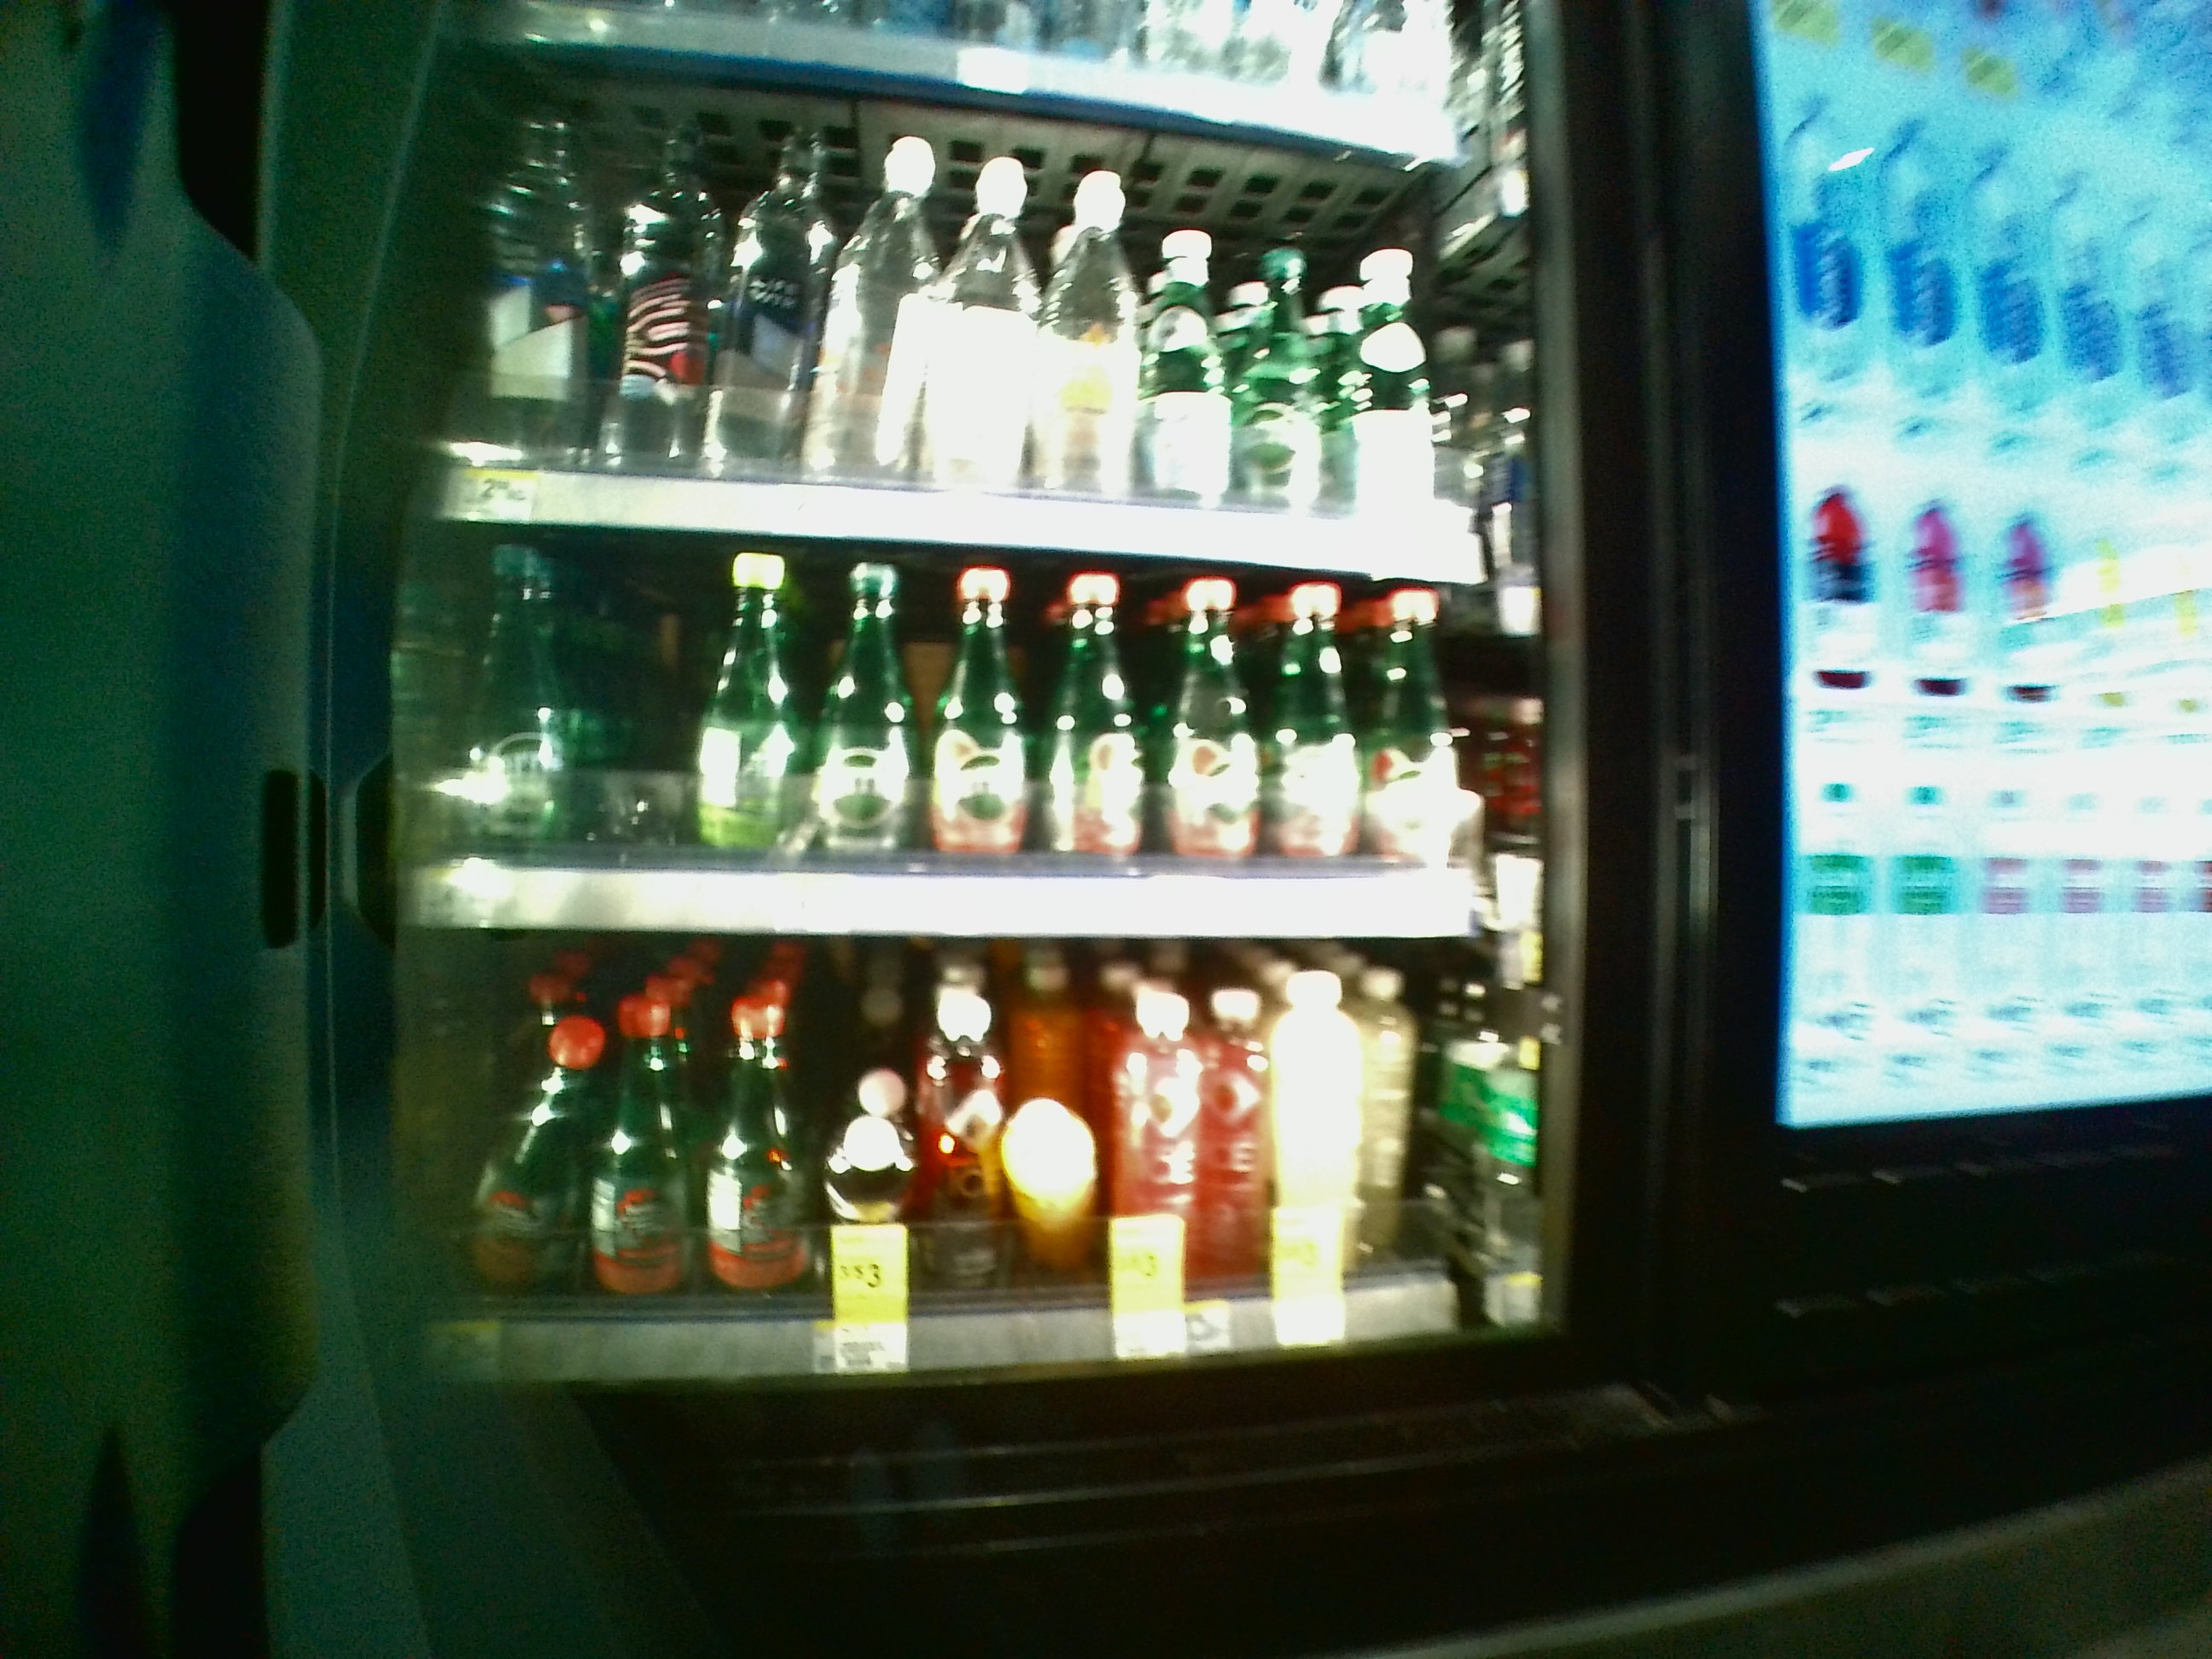shelf: (409, 939, 1566, 1391), (406, 521, 1559, 939)
